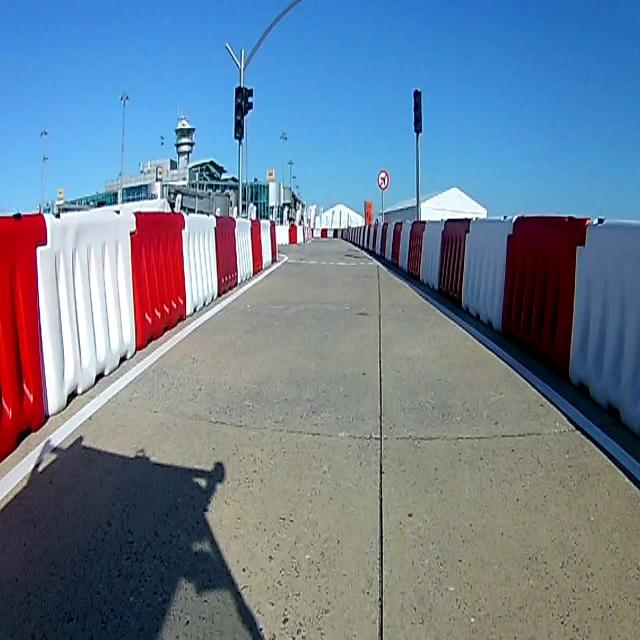soladonulmez: (376, 170, 389, 191)
